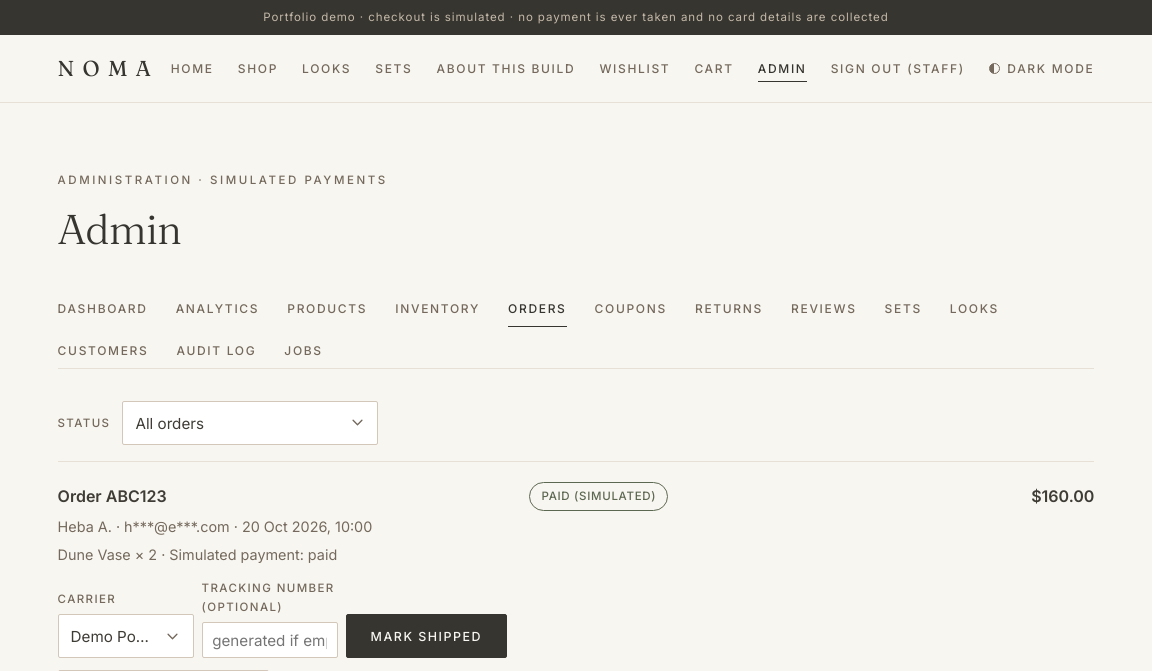
Test: admin orders › marks an order shipped with exactly { status: "SHIPPED" } and then reloads
Click the button "Mark shipped" at [426, 636], box top-left (346, 614), bottom-right (507, 658)
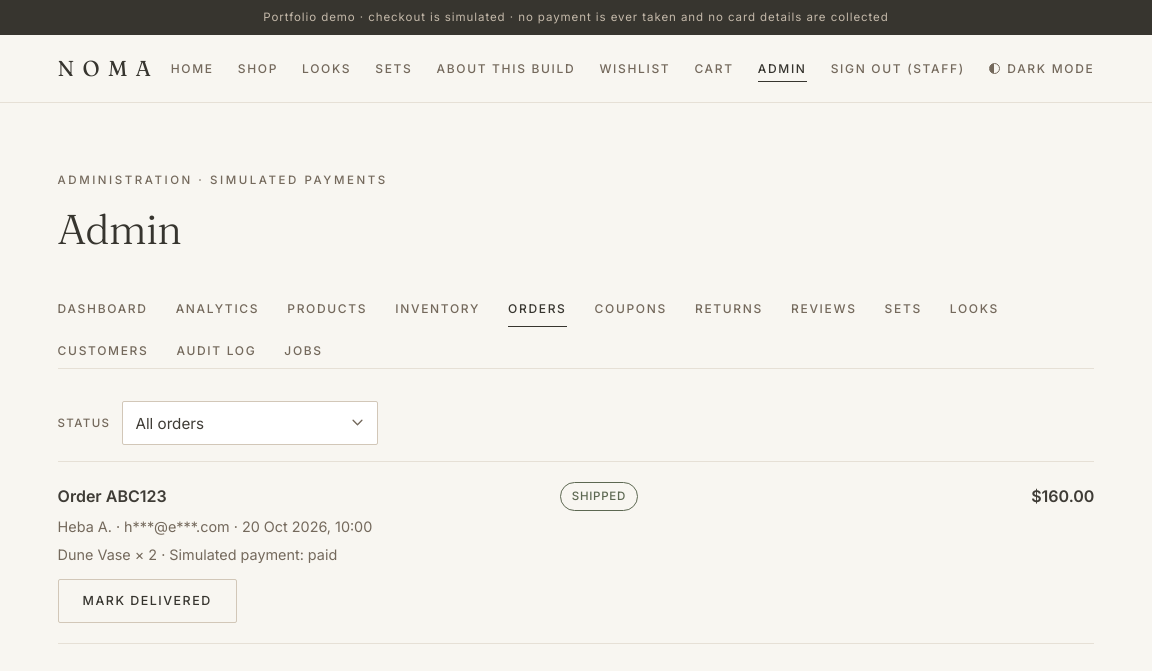
Now the button "Mark delivered" is shown, box top-left (58, 579), bottom-right (237, 623)
